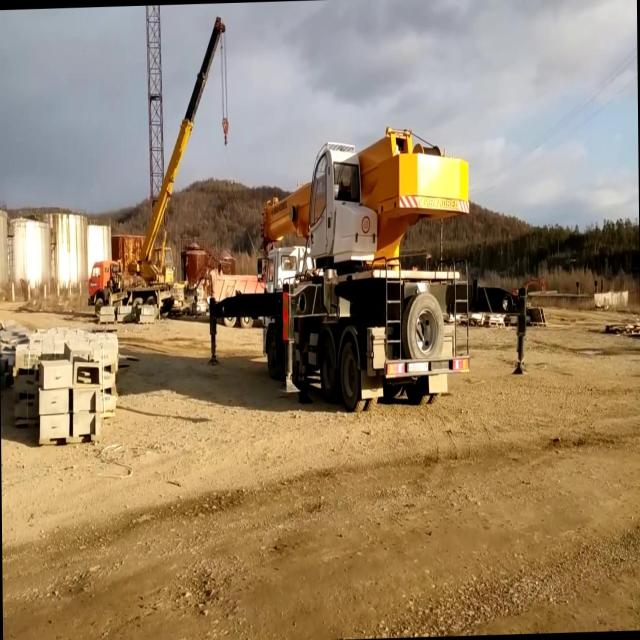crane: (204, 123, 472, 417), (84, 15, 231, 323)
